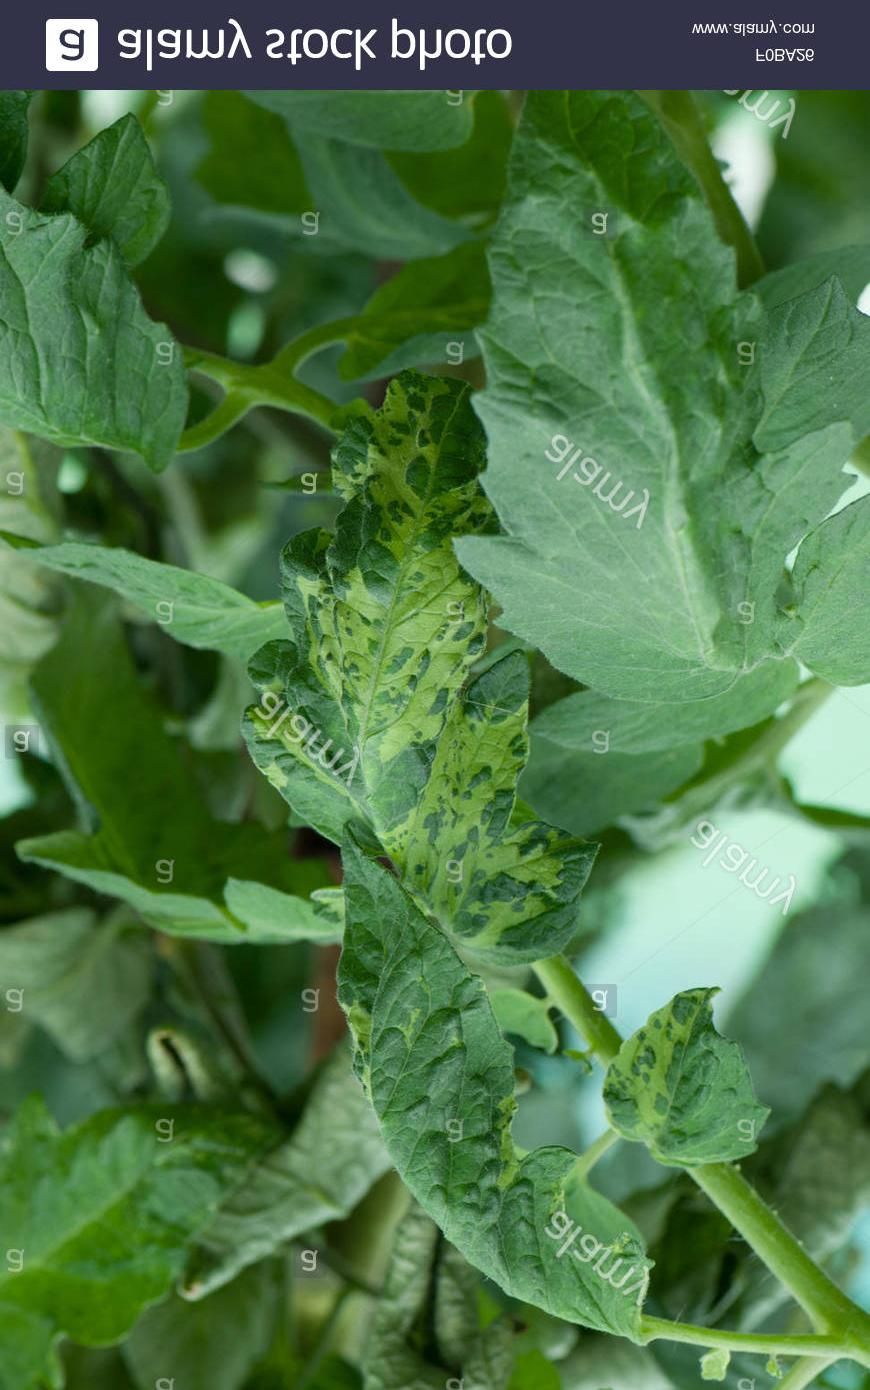Tomato leaf mosaic virus: (449, 144, 834, 732), (246, 364, 565, 1020), (300, 848, 651, 1348), (570, 969, 762, 1159)
